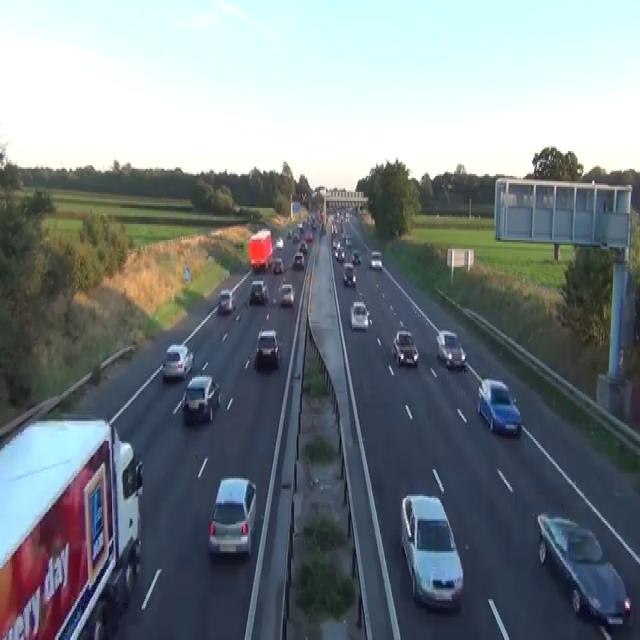Car: (280, 489, 368, 638), (536, 512, 631, 628), (400, 492, 464, 612), (207, 476, 256, 556), (476, 377, 521, 435), (182, 373, 220, 423), (436, 329, 466, 370), (161, 343, 194, 379), (255, 327, 282, 368), (392, 329, 419, 366), (350, 300, 371, 330), (445, 345, 466, 370), (249, 279, 268, 304), (218, 288, 235, 313), (277, 282, 294, 306), (342, 262, 356, 286), (370, 249, 382, 268), (292, 250, 304, 268), (272, 256, 283, 274), (351, 249, 361, 265), (335, 246, 345, 262), (183, 265, 190, 283), (299, 240, 307, 252), (305, 231, 313, 242), (332, 238, 340, 249), (275, 237, 283, 247), (292, 231, 299, 242), (345, 237, 352, 246), (318, 210, 323, 222), (286, 228, 292, 238), (344, 212, 350, 222), (297, 222, 303, 230), (311, 220, 316, 228)
Truck: (0, 416, 143, 638), (248, 228, 273, 272)
